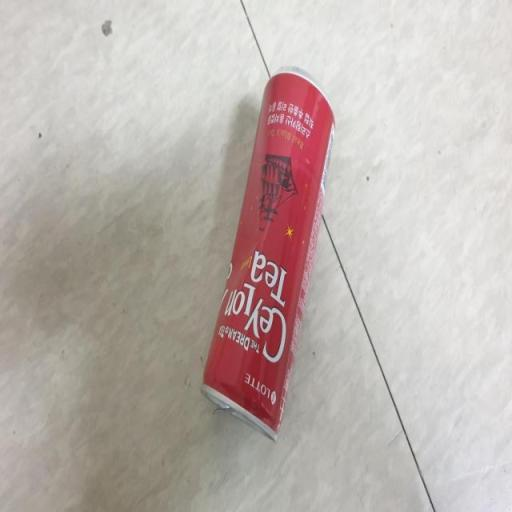metal: (186, 39, 350, 487)
